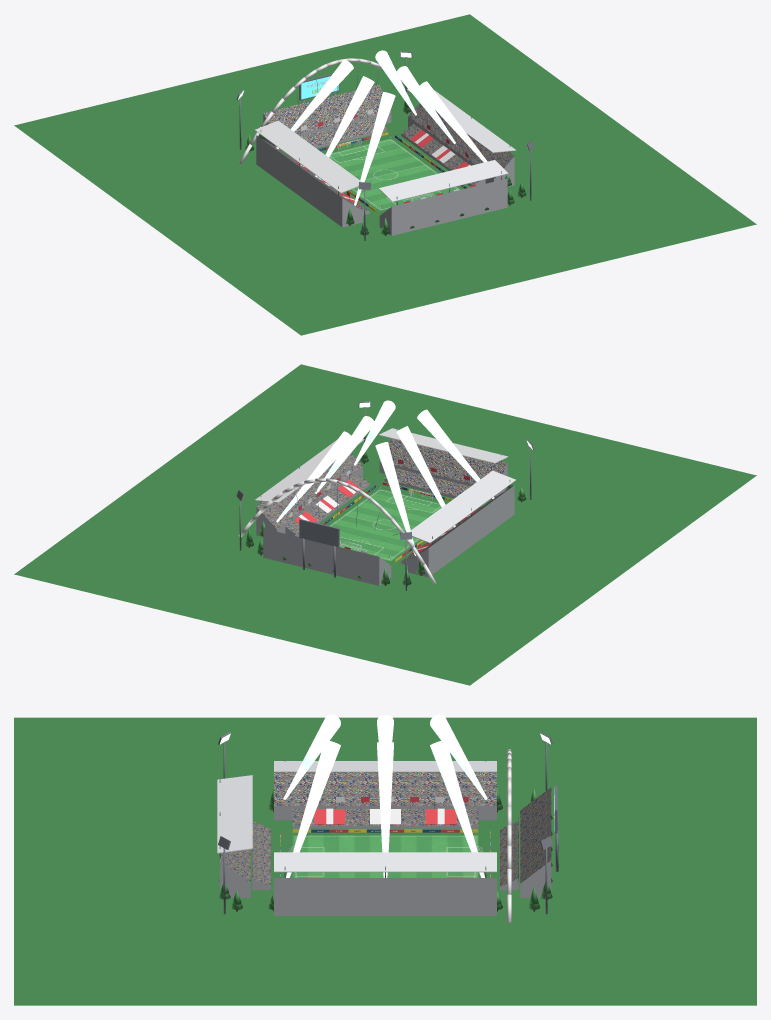
Rendered from stadium.glb.
3 views of the same model, one above another, from view 1: azimuth 30°, elevation 25°; view 2: azimuth 150°, elevation 25°; view 3: azimuth 270°, elevation 25° (orthographic). The views are drawn at different scales.
Parts seen in each view (by area): view 1: Ground, StandsBigEnds, Roof, StandsBigSides, Beams, Pitch, StandsSmallEnds, StandsSmallSides, Arch, Trees, Tifo, Floodlights (+1 smaller); view 2: Ground, StandsBigEnds, StandsBigSides, Beams, Roof, Pitch, Arch, StandsSmallSides, Scoreboard, StandsSmallEnds, Trees, Tifo (+1 smaller); view 3: Ground, StandsBigSides, Roof, Beams, StandsBigEnds, Pitch, StandsSmallEnds, StandsSmallSides, Tifo, Floodlights, Trees, Arch (+1 smaller).
Boxes of the visible parts, x1,y1,x2,y2 form: Ground: (14,14,756,335); StandsBigEnds: (263,84,507,235); Roof: (255,87,516,205); StandsBigSides: (256,103,514,227); Beams: (276,50,487,205); Pitch: (329,138,460,211); StandsSmallEnds: (300,118,386,148); StandsSmallSides: (288,124,485,215); Arch: (239,58,404,164); Trees: (244,101,526,236); Tifo: (295,130,470,204); Floodlights: (236,51,534,240); Ground: (14,364,756,685); StandsBigEnds: (263,438,507,585); StandsBigSides: (256,453,514,577); Beams: (276,400,494,555); Roof: (254,427,515,545); Pitch: (329,488,441,561); Arch: (238,478,436,584); StandsSmallSides: (285,474,482,565); Scoreboard: (299,519,339,577); StandsSmallEnds: (384,468,470,498); Trees: (244,451,526,586); Tifo: (294,480,475,554); Ground: (14,717,756,1005); StandsBigSides: (274,772,496,915); Roof: (217,758,496,877); Beams: (283,714,487,877); StandsBigEnds: (219,787,551,897); Pitch: (292,835,478,877); StandsSmallEnds: (252,821,518,890); StandsSmallSides: (292,809,478,828); Tifo: (314,808,456,824); Floodlights: (218,732,552,914); Trees: (218,787,552,911); Arch: (507,749,511,922).
Size of the model in its own units: 220 by 48.12 by 240.
20 materials, 2 textured.
